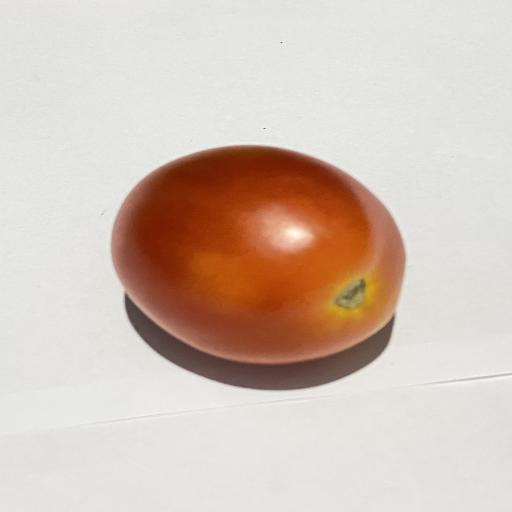ripe: (112, 146, 405, 364)
